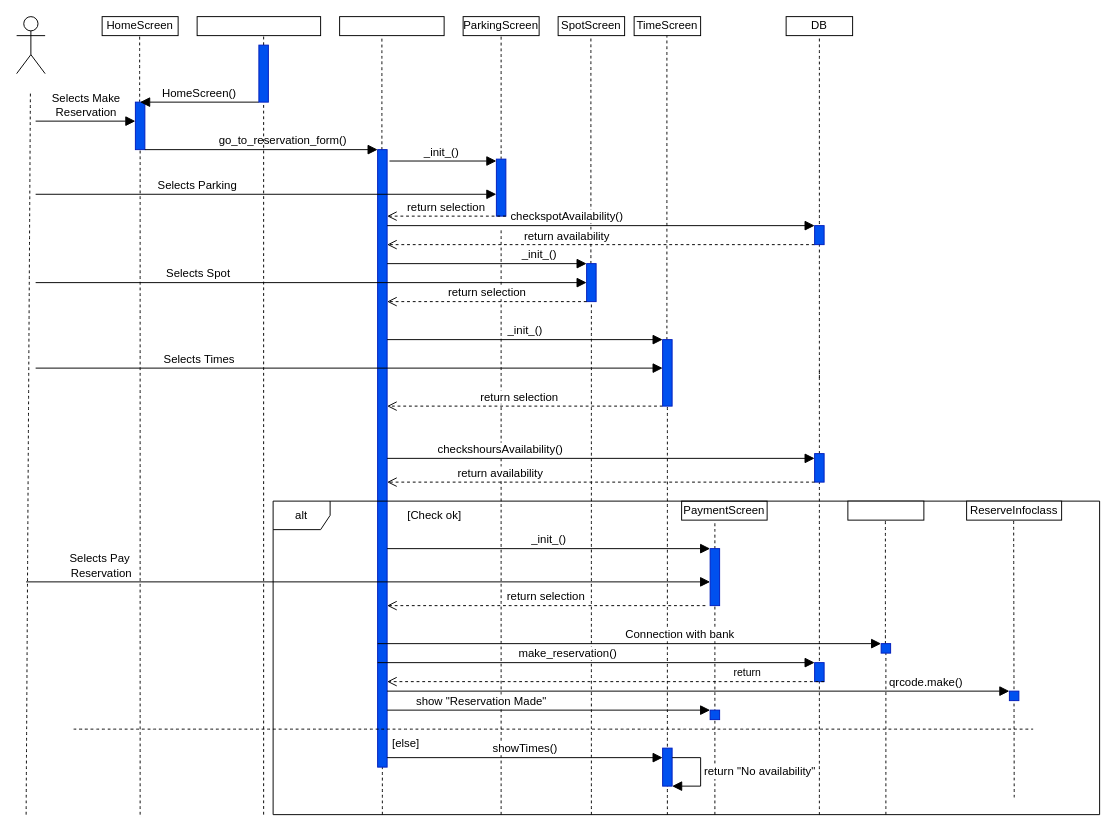
The diagram is 1116 pixels wide and 832 high, and some of its shapes have lost their labels. The shapes that lost their labels are listed below. From the top down, each one's centre as x and y in pixels, then its label:
At point 30,45: "Actor".
At point 258,26: "SmartParkAppClass".
At point 391,26: "MakeReservClass".
At point 885,510: "Bank".
